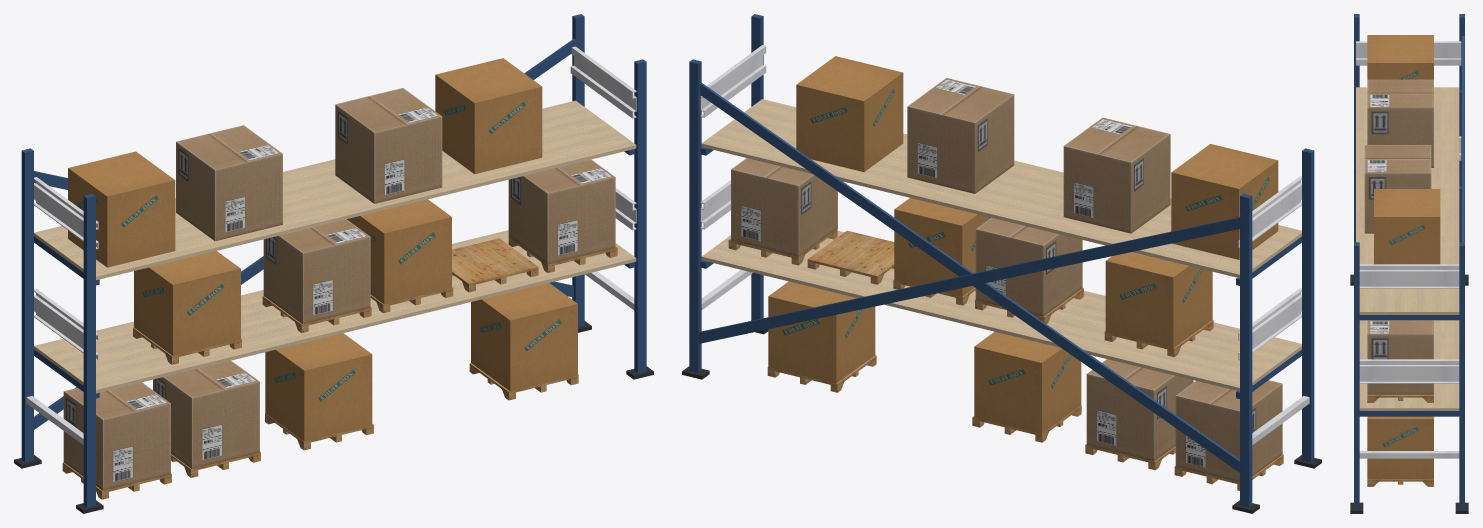
File: BigShelves04Group3-transformed.glb
3 views of the same model, side by side, from view 1: azimuth 30°, elevation 25°; view 2: azimuth 150°, elevation 25°; view 3: azimuth 270°, elevation 25° (orthographic). The views are drawn at different scales.
Visible parts, largest first — view 1: Cardboard_box01, Cardboard_box05, BigShelves04, BigShelvesWoodBox; view 2: BigShelves04, Cardboard_box01, Cardboard_box05, BigShelvesWoodBox; view 3: BigShelves04, Cardboard_box05, Cardboard_box01, BigShelvesWoodBox.
Boxes of the visible parts, x1,y1,x2,y2 form: Cardboard_box01: (63, 88, 615, 490); Cardboard_box05: (68, 58, 577, 441); BigShelves04: (14, 14, 653, 513); BigShelvesWoodBox: (62, 236, 617, 499); BigShelves04: (682, 14, 1321, 513); Cardboard_box01: (731, 78, 1282, 482); Cardboard_box05: (768, 56, 1278, 433); BigShelvesWoodBox: (728, 229, 1283, 490); BigShelves04: (1350, 14, 1468, 513); Cardboard_box05: (1367, 35, 1440, 479); Cardboard_box01: (1364, 79, 1433, 394); BigShelvesWoodBox: (1367, 394, 1433, 486).
Size of the model in its own units: 8.57 by 4.49 by 1.81.
7 materials, 7 textured.
